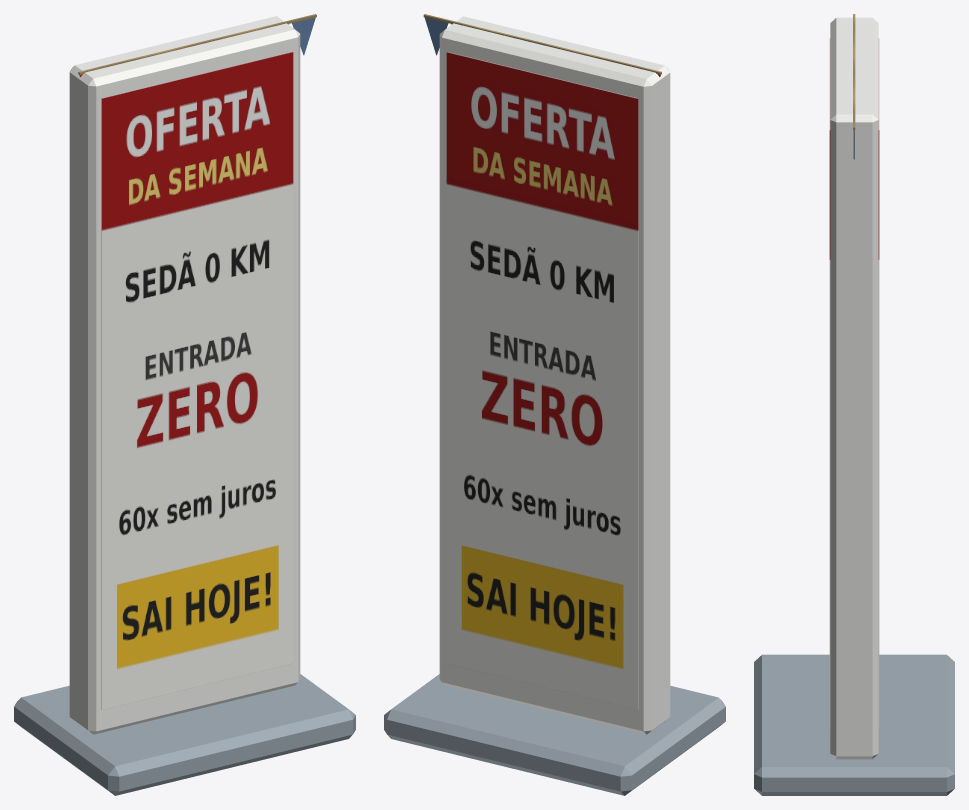
Rendered from totem_ofertas.glb.
3 renders of one model, left to right at view 1: azimuth 30°, elevation 25°; view 2: azimuth 150°, elevation 25°; view 3: azimuth 270°, elevation 25°, orthographic.
Visible parts, largest first — view 1: totem_ofertas_totem_arte, totem_ofertas_esmalte, totem_ofertas_aco_pintado, totem_ofertas_corda; view 2: totem_ofertas_totem_arte, totem_ofertas_esmalte, totem_ofertas_aco_pintado, totem_ofertas_corda; view 3: totem_ofertas_esmalte, totem_ofertas_aco_pintado, totem_ofertas_totem_arte.
Part boxes in pixels (bbox=[...]): totem_ofertas_totem_arte: bbox=[101, 51, 293, 709]; totem_ofertas_esmalte: bbox=[69, 16, 300, 734]; totem_ofertas_aco_pintado: bbox=[14, 674, 355, 795]; totem_ofertas_corda: bbox=[78, 14, 316, 74]; totem_ofertas_totem_arte: bbox=[446, 52, 638, 709]; totem_ofertas_esmalte: bbox=[439, 16, 670, 734]; totem_ofertas_aco_pintado: bbox=[384, 674, 725, 795]; totem_ofertas_corda: bbox=[423, 14, 661, 74]; totem_ofertas_esmalte: bbox=[830, 17, 878, 759]; totem_ofertas_aco_pintado: bbox=[754, 654, 954, 795]; totem_ofertas_totem_arte: bbox=[829, 38, 879, 730].
Size of the model in its own units: 0.72 by 1.85 by 0.5.
7 materials, 2 textured.
